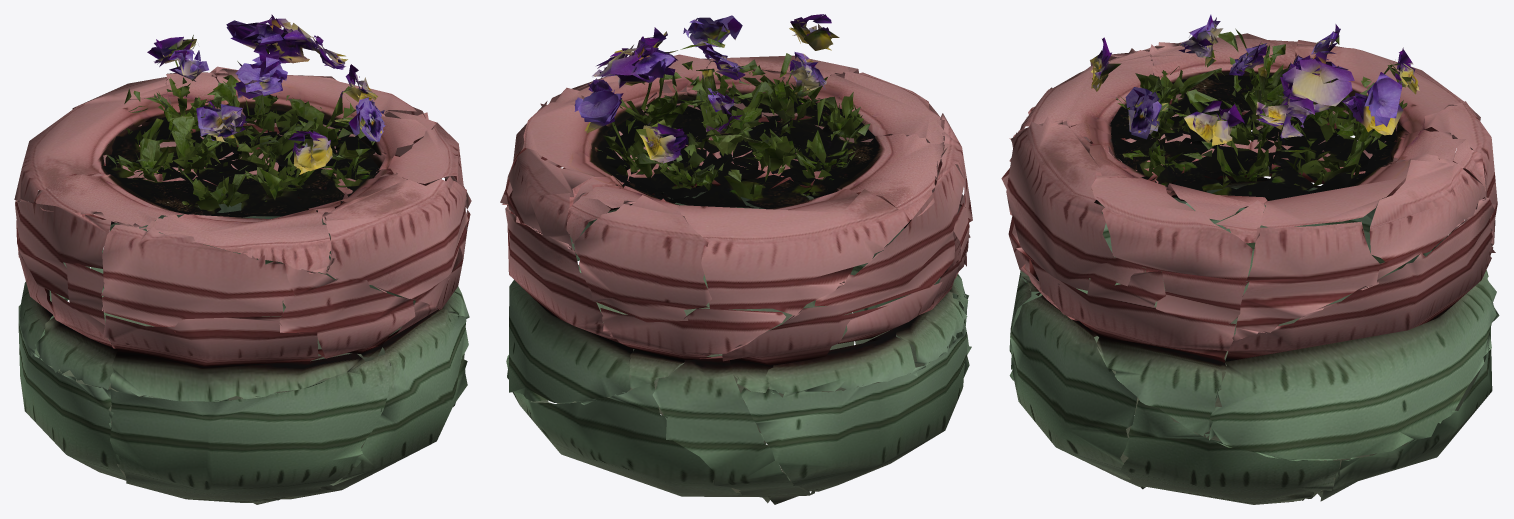
Rendered from llantamaseta.glb.
3 renders of one model, left to right at view 1: azimuth 30°, elevation 25°; view 2: azimuth 150°, elevation 25°; view 3: azimuth 270°, elevation 25°, orthographic. The views are drawn at different scales.
Visible parts, largest first — view 1: tripo_node_d3d16cd1-082b-437e-a879-282dfa98b0d1; view 2: tripo_node_d3d16cd1-082b-437e-a879-282dfa98b0d1; view 3: tripo_node_d3d16cd1-082b-437e-a879-282dfa98b0d1.
Part boxes in pixels (bbox=[...]): tripo_node_d3d16cd1-082b-437e-a879-282dfa98b0d1: bbox=[14, 14, 471, 504]; tripo_node_d3d16cd1-082b-437e-a879-282dfa98b0d1: bbox=[500, 14, 972, 504]; tripo_node_d3d16cd1-082b-437e-a879-282dfa98b0d1: bbox=[1001, 14, 1499, 504].
Size of the model in its own units: 1.01 by 0.988 by 1.02.
1 material, 1 textured.
